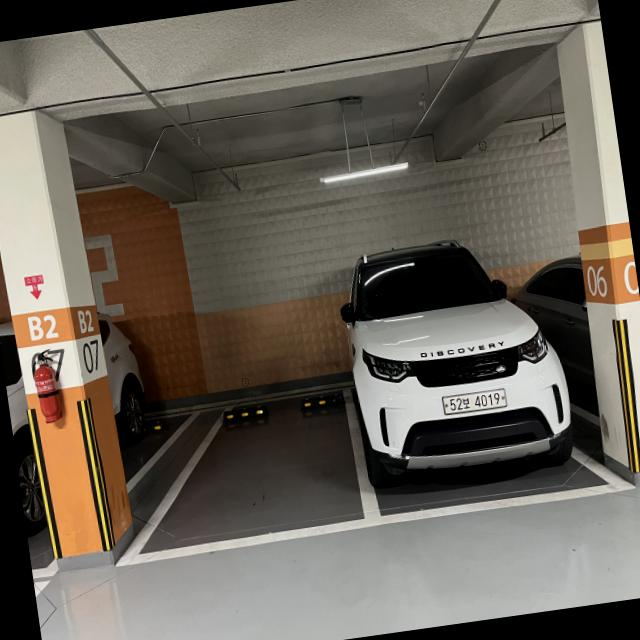car: (332, 216, 586, 529)
free: (170, 380, 370, 554)
